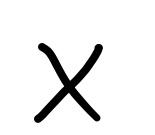mult: (34, 43, 105, 123)
